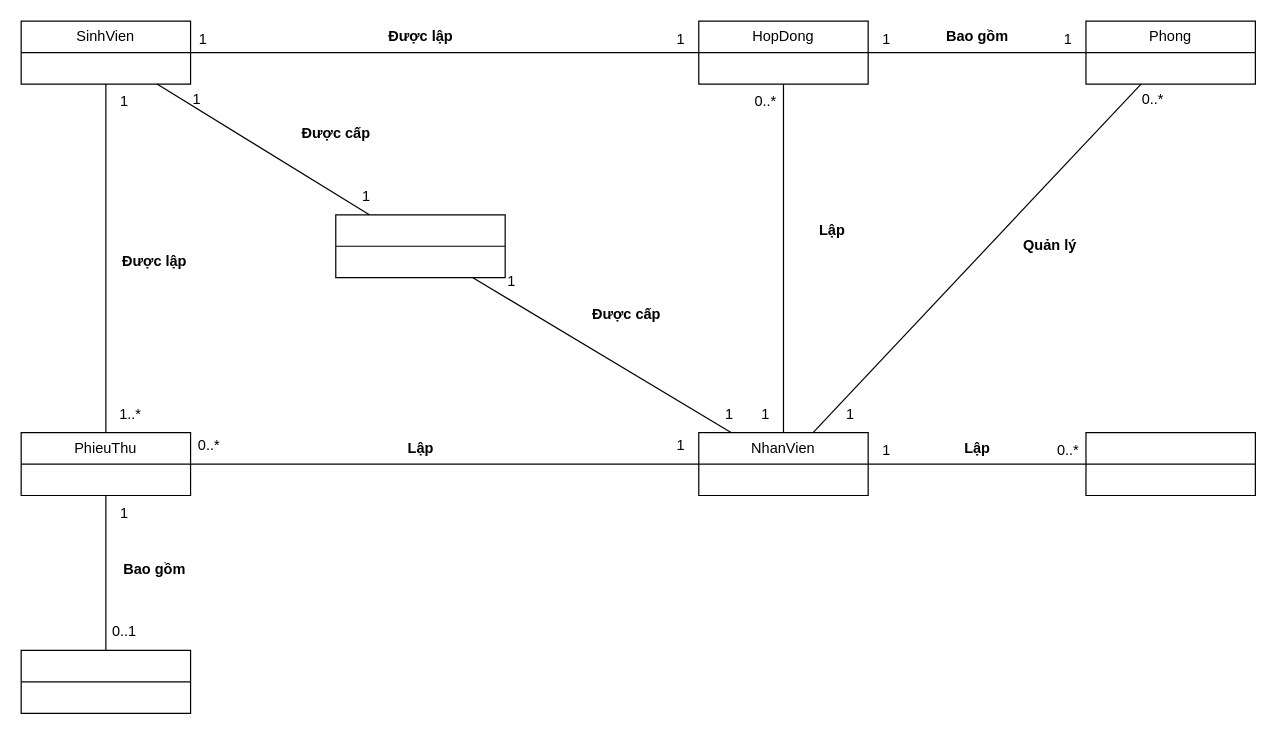
Image size: 1277x734. Some labels were removed from this diagram. The shapes that lost their labels are listed below. From the top down, each one's centre as x and y in pixels, then its label:
point 420,246: Tài khoản
point 1170,463: Báo cáo
point 105,681: HoaDon
